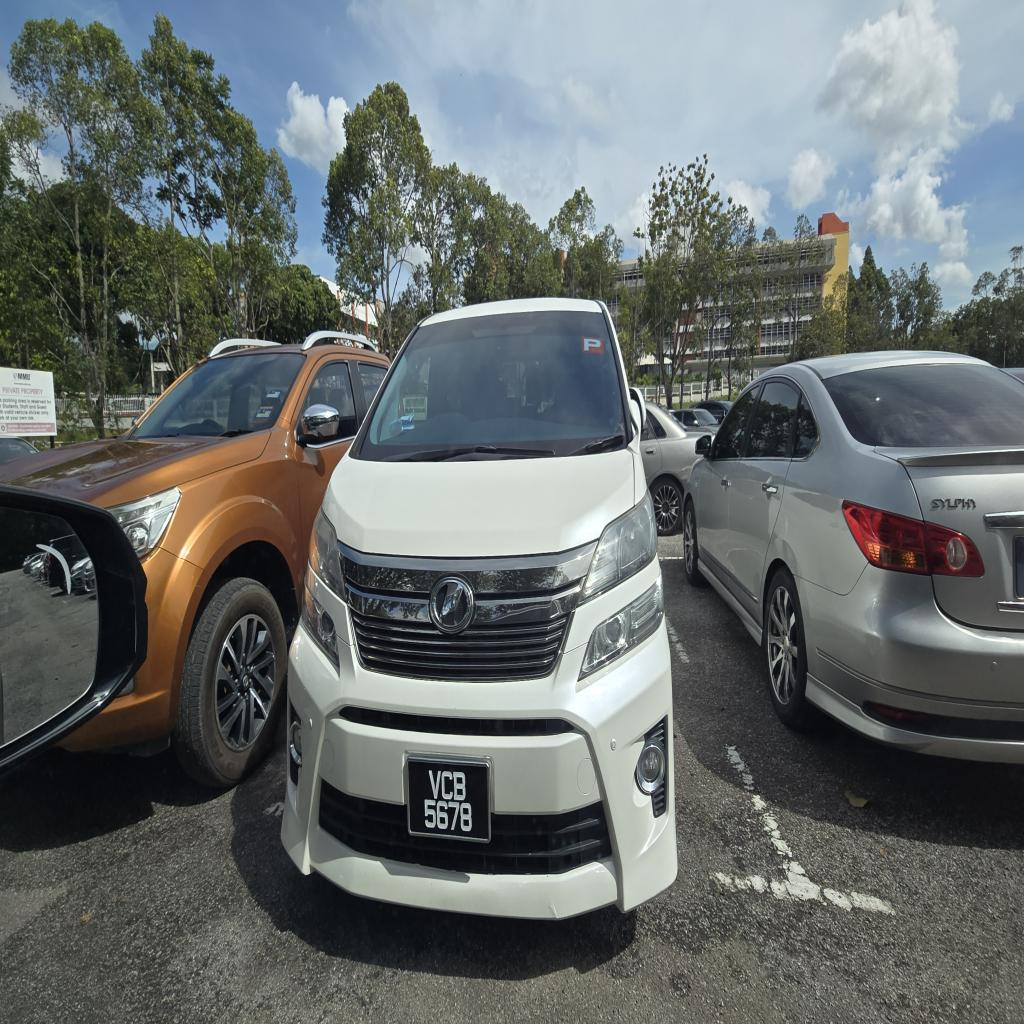car: (282, 299, 676, 918)
car plate: (408, 756, 490, 842)
